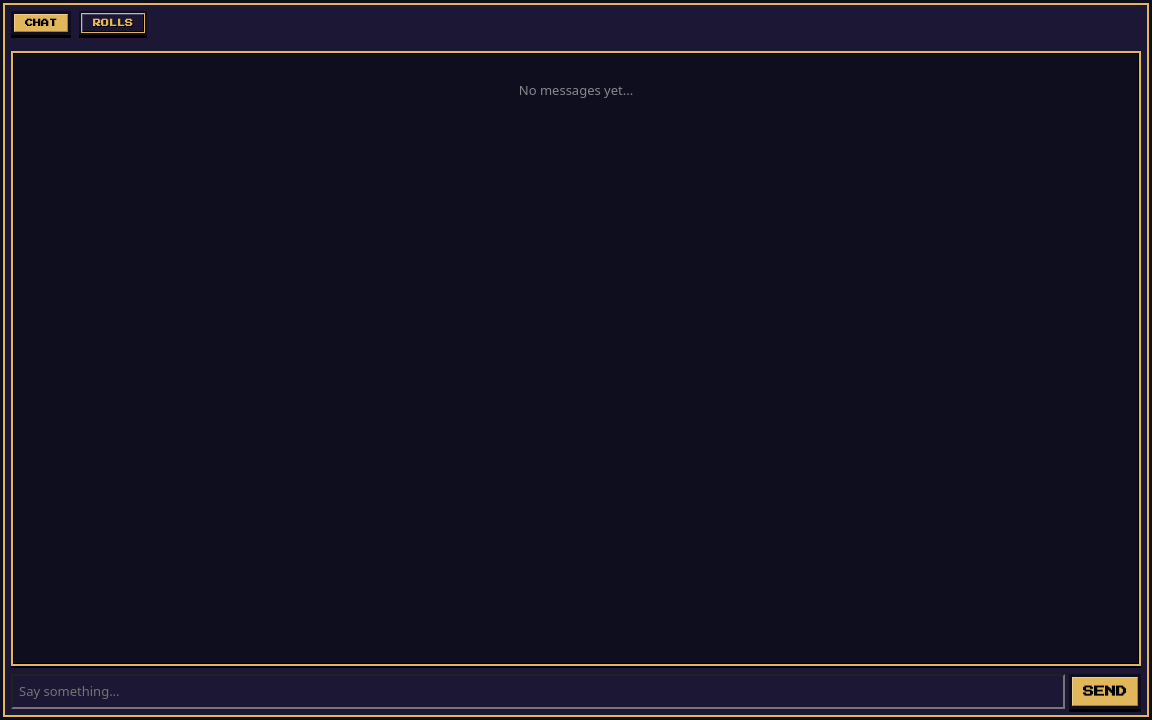
Chat & Rolls navigation › opens Chat for a fresh player and leaves Rolls reachable
Expected: the field named "Chat message" is shown, [11,674,1065,709]
Expected: the tab "CHAT" is shown, [11,11,71,35]
What coordinates should you click on to do the following:
click the tab "ROLLS"
I would click on:
 (113, 23)
Its box is [79,11,147,35].
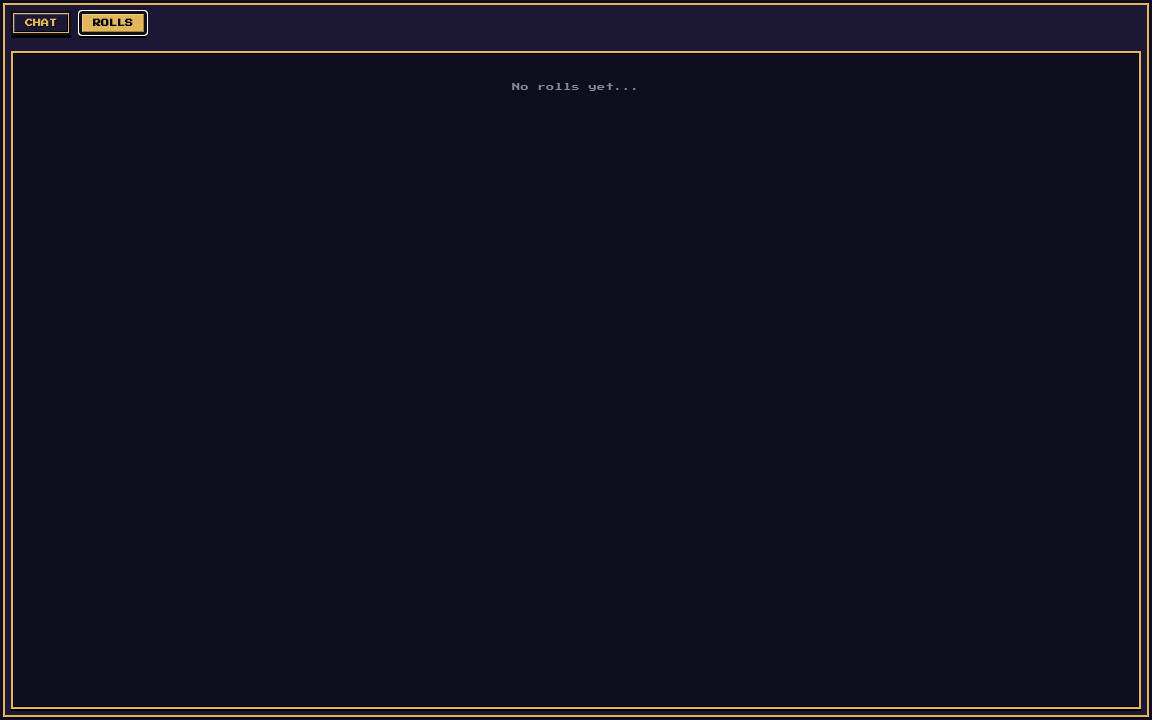
Now the text "No rolls yet..." is shown, box [512,83,640,91]
